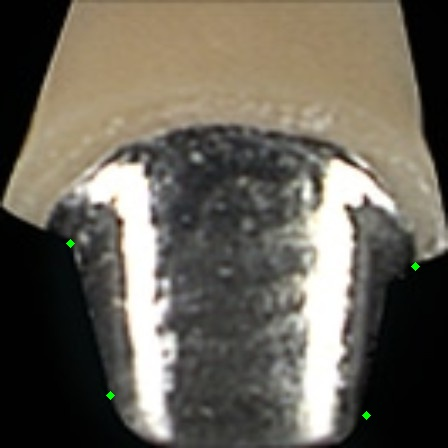coin_1: (415, 266, 435, 286)
coin_2: (366, 415, 386, 435)
coin_3: (70, 243, 90, 263)
coin_4: (110, 395, 130, 415)
